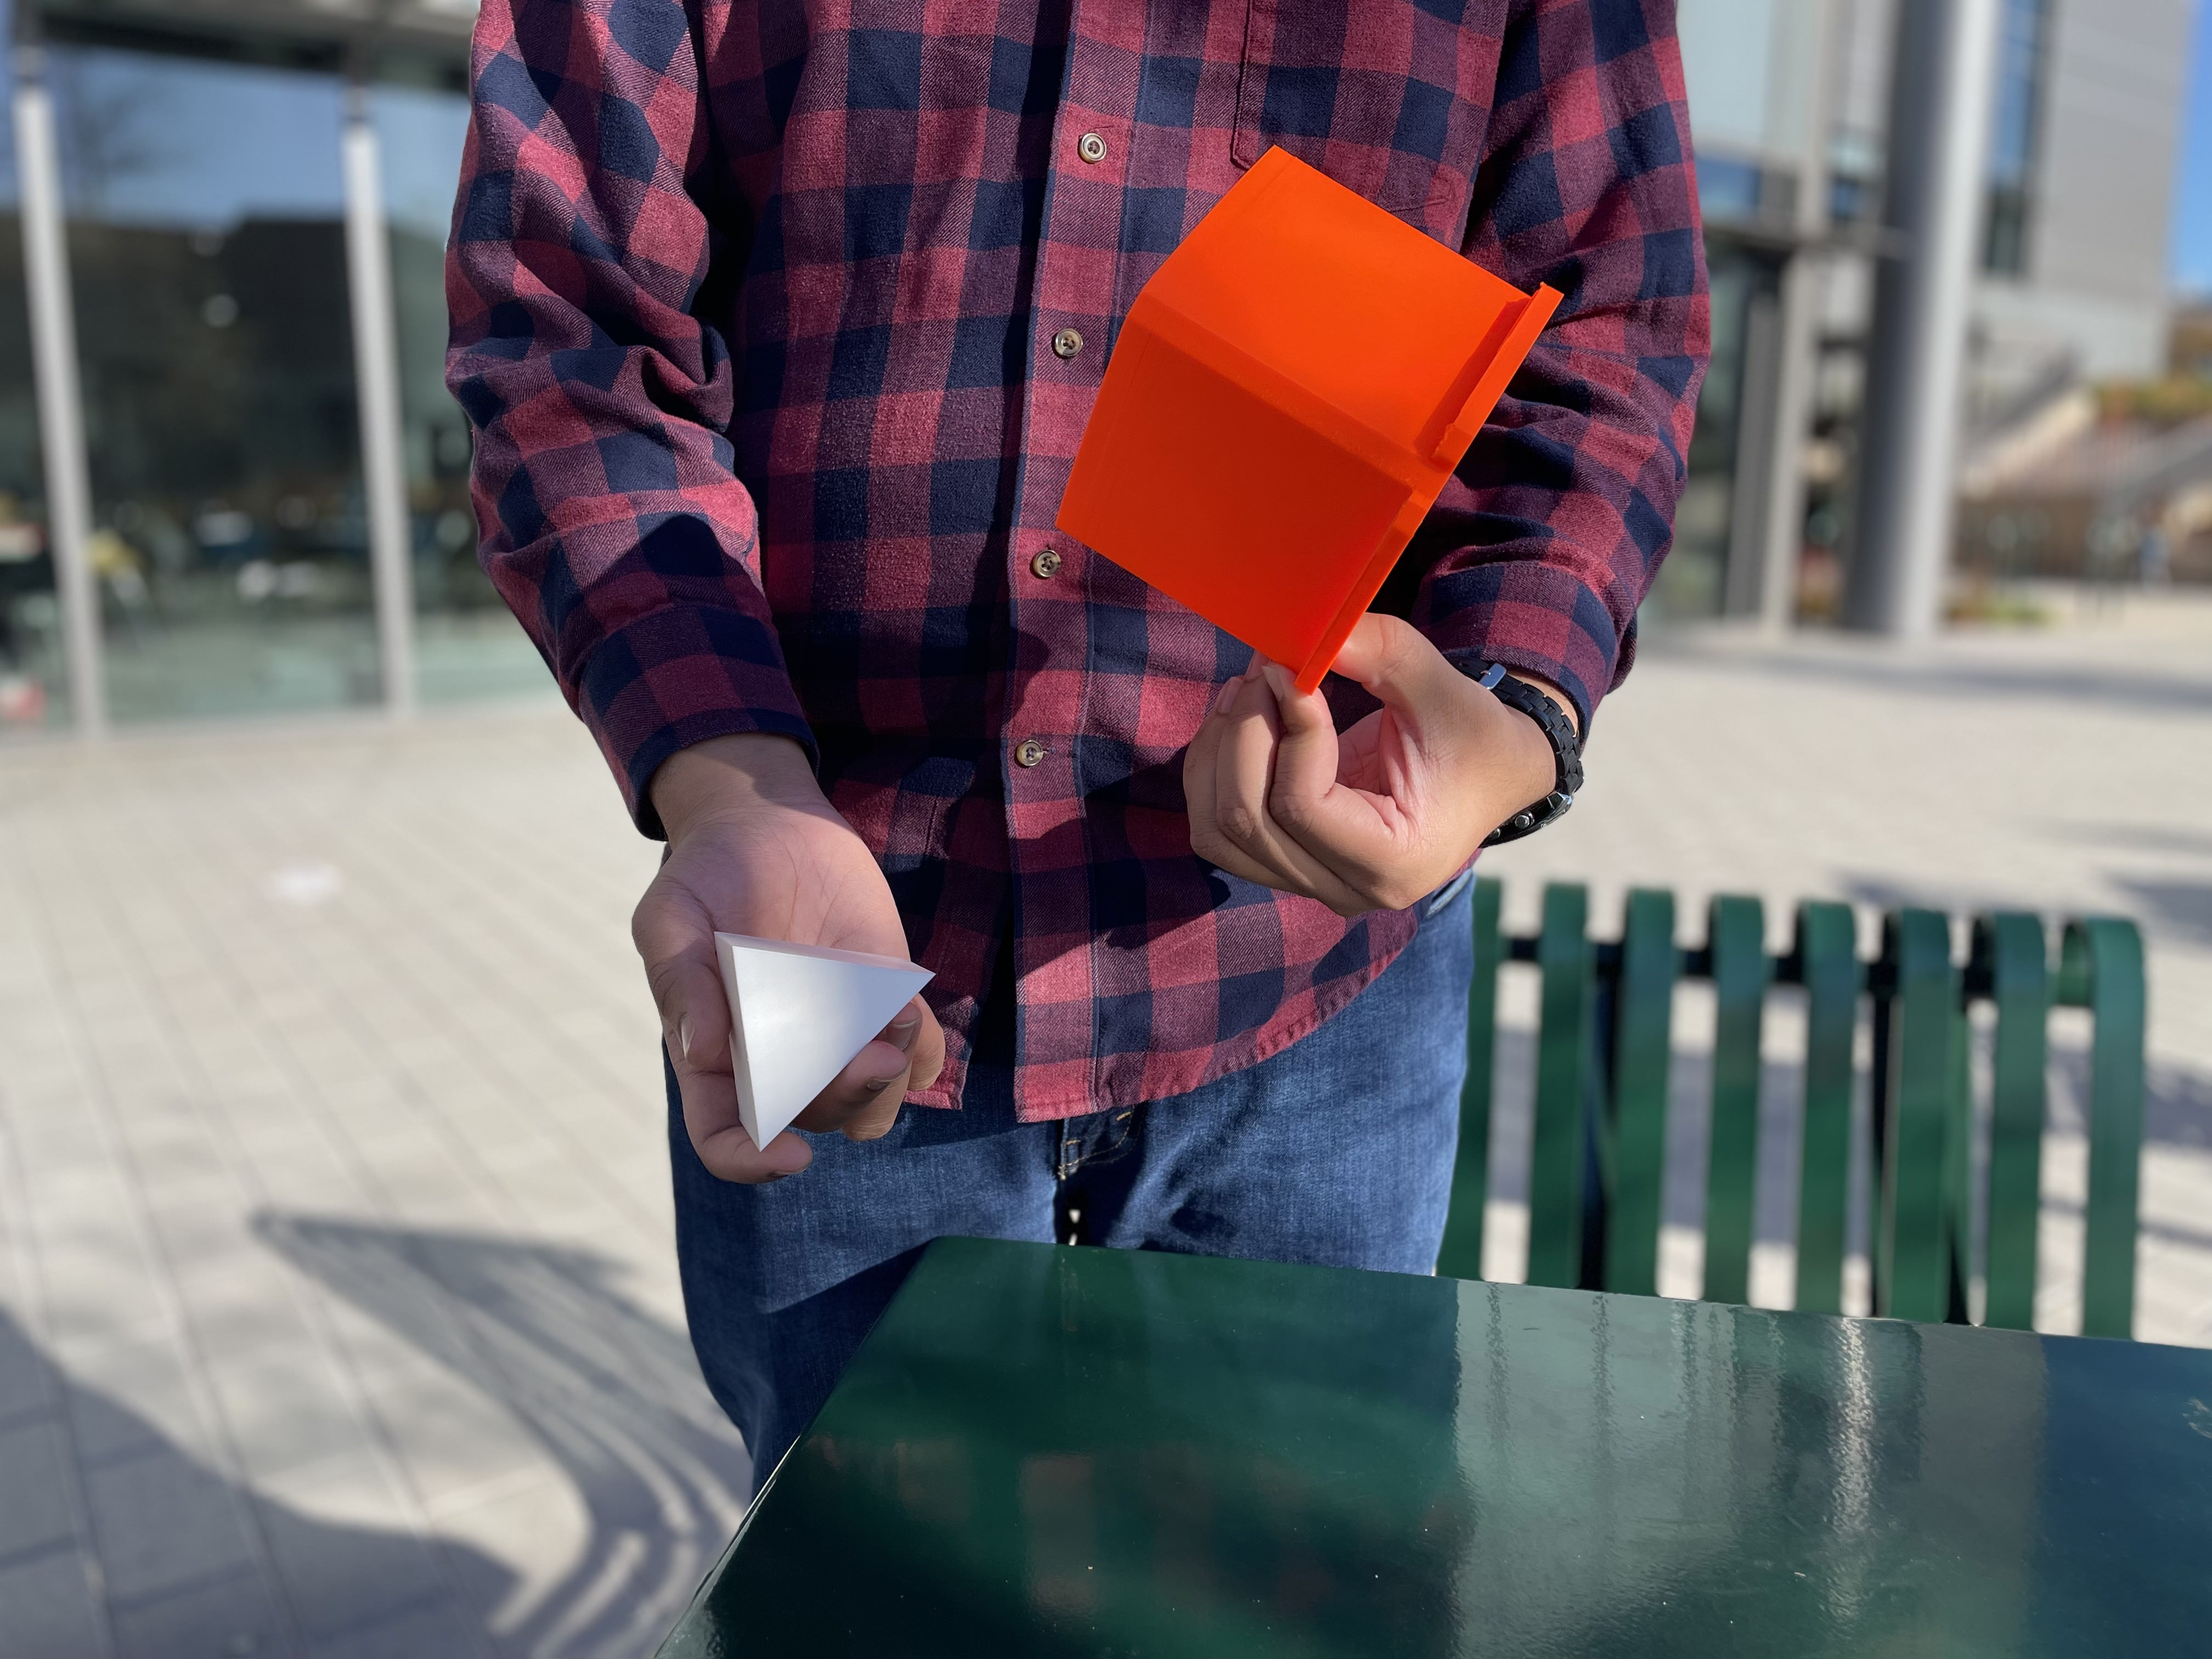payload1: (1042, 124, 1580, 702)
payload2: (691, 892, 944, 1168)
